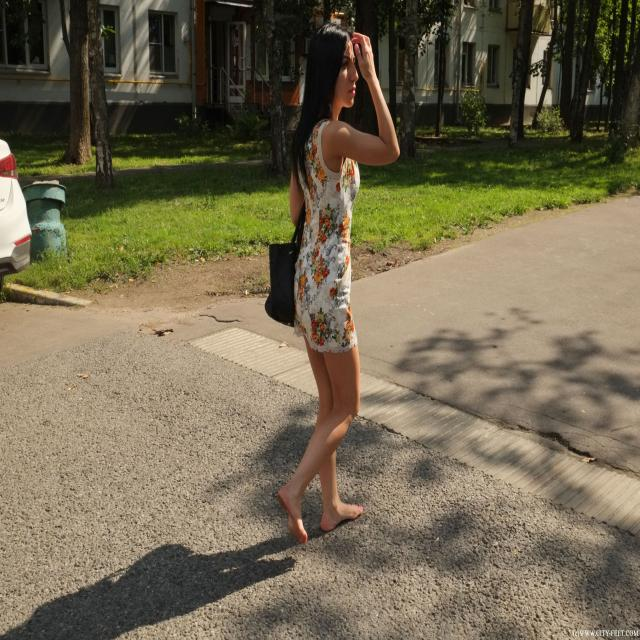Barefoots: (278, 485, 307, 544), (321, 502, 364, 531)
